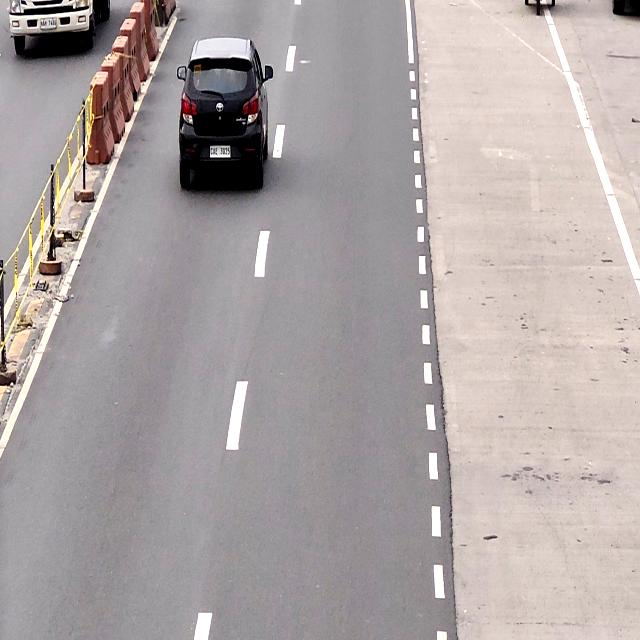Car: (180, 41, 267, 186)
License-Plate: (208, 145, 232, 160)
